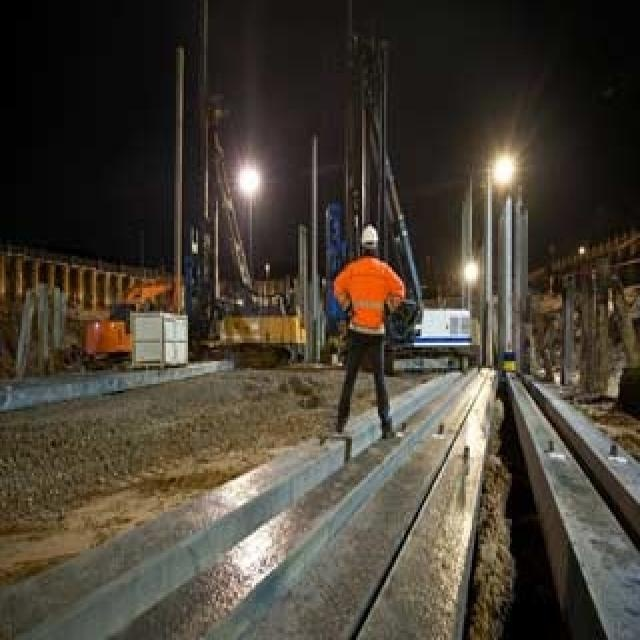Con_Chaleco: (348, 260, 392, 332)
